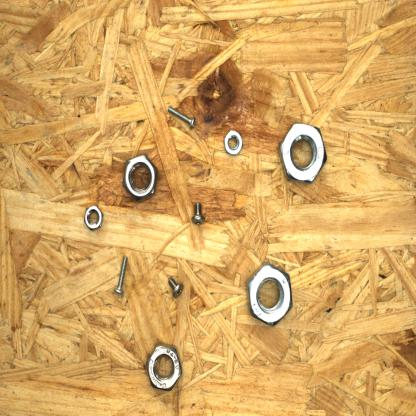screw: (165, 106, 201, 132), (111, 252, 131, 298), (164, 272, 186, 301), (190, 198, 209, 228)
